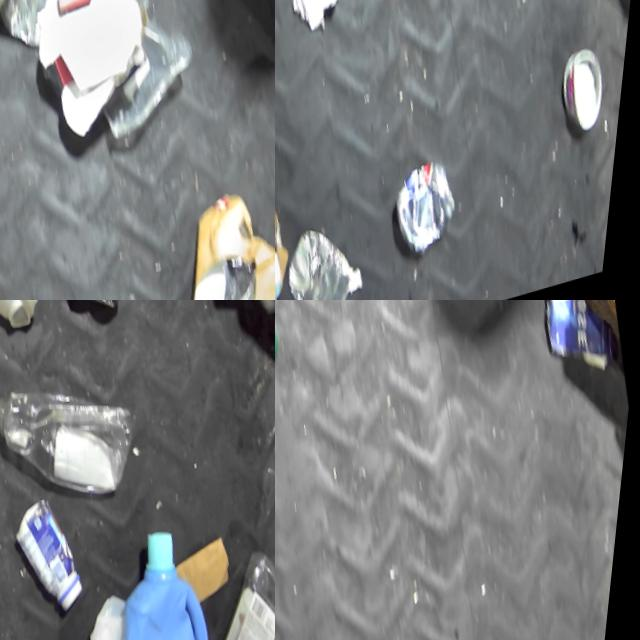can: (390, 162, 480, 269), (279, 214, 380, 300), (559, 56, 619, 142), (0, 0, 69, 61), (53, 300, 139, 327)
non_white_jug: (97, 522, 237, 640)
plastic_bottle: (0, 362, 160, 532), (195, 546, 275, 640)
